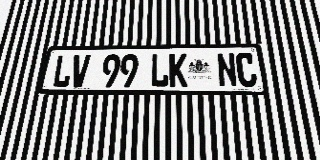9: (101, 54, 121, 87), (119, 54, 139, 87)
C: (235, 53, 258, 87)
K: (169, 53, 188, 87)
L: (52, 55, 74, 87), (150, 54, 169, 87)
N: (216, 53, 238, 87)
V: (69, 55, 91, 87)
